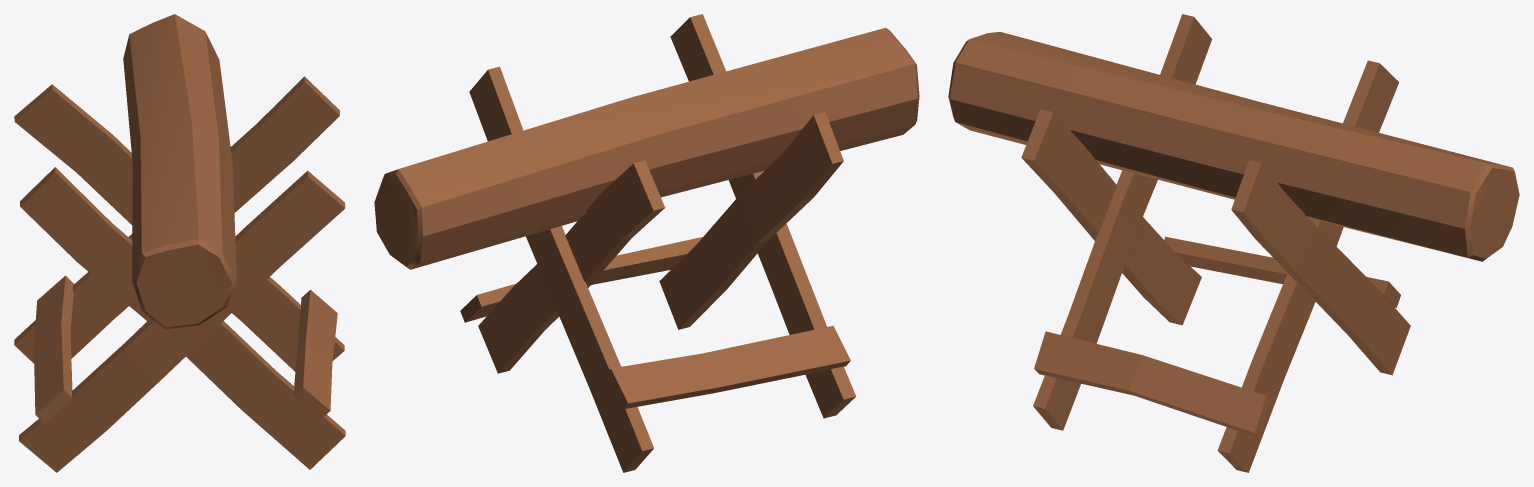
The model's file is LogHolder.fbx.
3 renders of one model, left to right at view 1: azimuth 30°, elevation 25°; view 2: azimuth 150°, elevation 25°; view 3: azimuth 270°, elevation 25°, orthographic. The views are drawn at different scales.
Visible parts, largest first — view 1: LogHolder; view 2: LogHolder; view 3: LogHolder.
Boxes of the visible parts, x1,y1,x2,y2 form: LogHolder: (14,14,345,472); LogHolder: (374,14,919,472); LogHolder: (948,14,1519,472).
Bounding box in the file's own units: 2.5 × 2.04 × 3.36.
